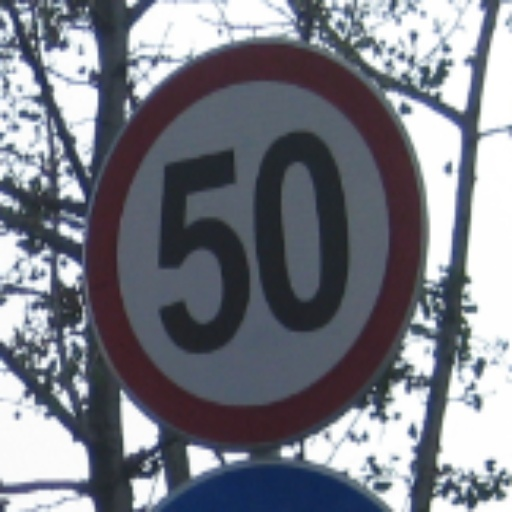Speed limit: (74, 43, 427, 447)
